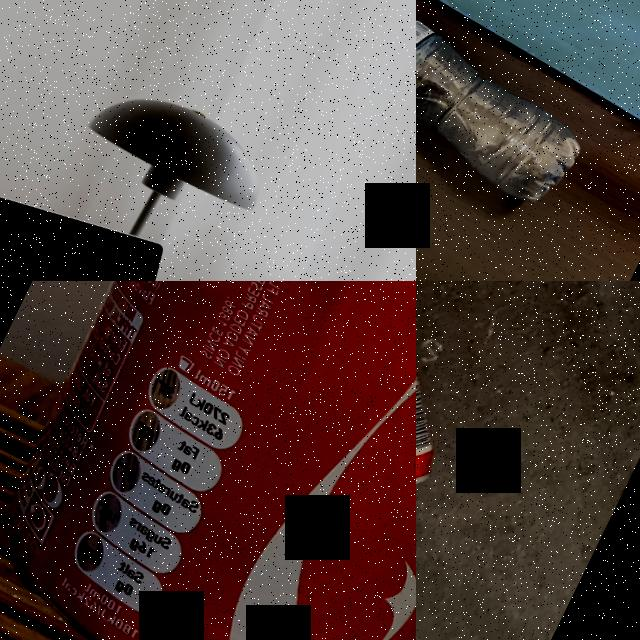bottle: (416, 0, 619, 237)
can: (0, 281, 416, 640), (416, 281, 536, 533)
